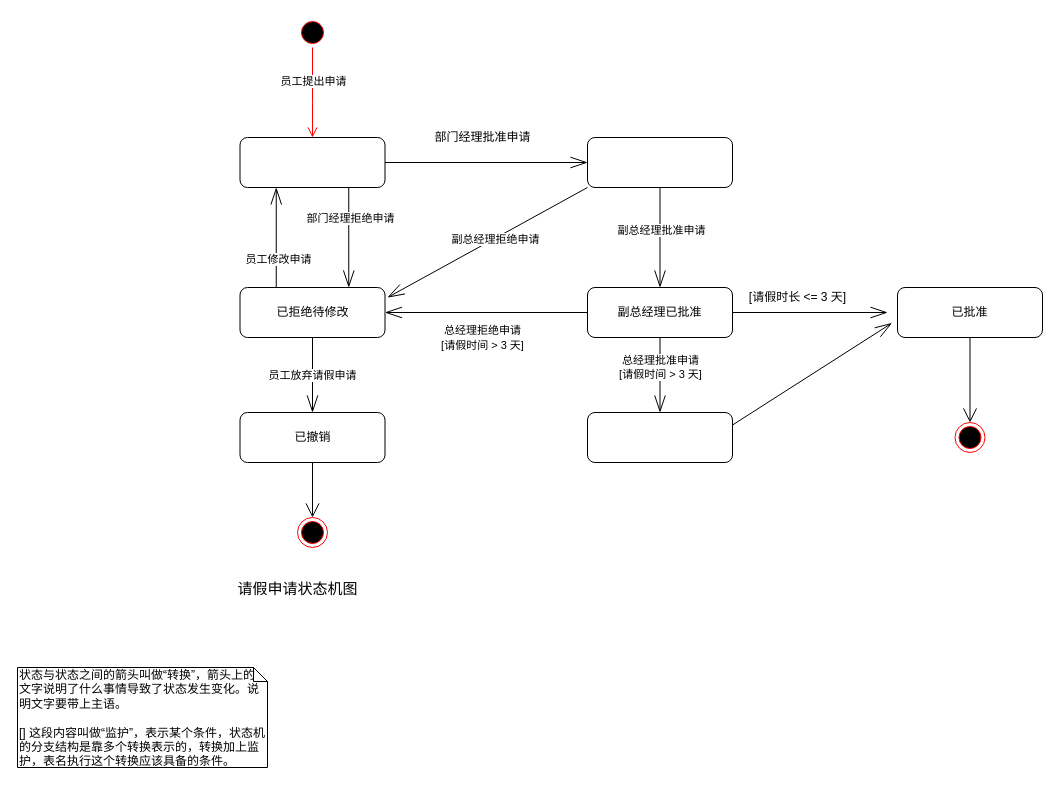
Image size: 1060x787. Some labels were removed from this diagram. The centre of each missing label's shape, as x and y in pixels:
"已提交" belongs at (312,162).
"总经理已批准" belongs at (659,437).
"部门经理批准" belongs at (659,162).
